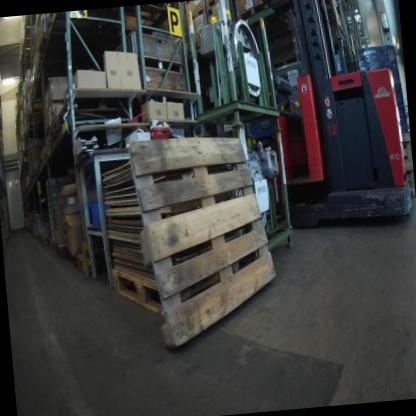forklift: (253, 0, 416, 236)
pallet: (128, 114, 286, 358), (112, 260, 174, 330), (110, 4, 179, 45), (29, 51, 84, 91), (35, 25, 89, 61), (124, 49, 187, 79), (230, 0, 275, 34), (267, 51, 303, 74), (26, 91, 48, 121), (184, 8, 207, 27), (51, 235, 67, 260), (203, 0, 228, 13)
stillage: (262, 54, 313, 128)
